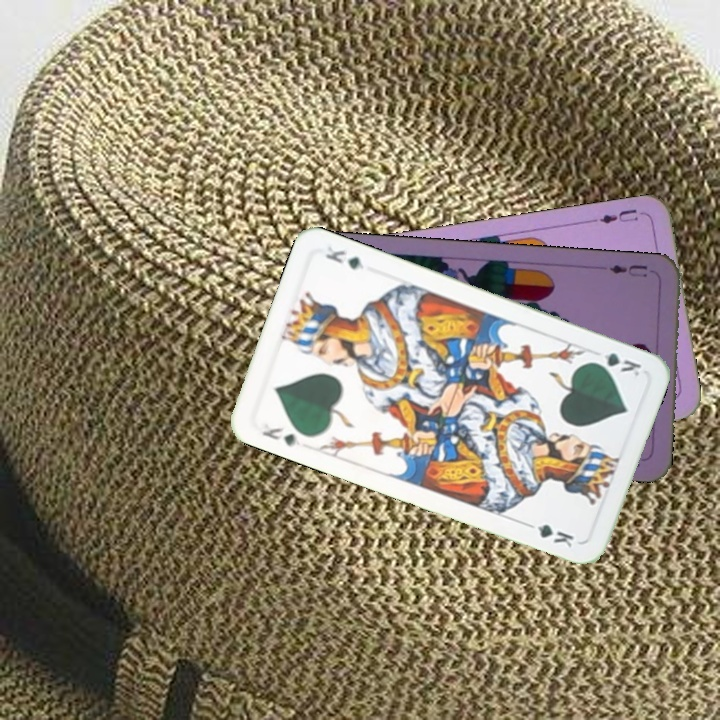EU: (588, 205, 641, 227), (605, 260, 650, 280)
GK: (586, 348, 644, 379), (258, 423, 304, 449)
